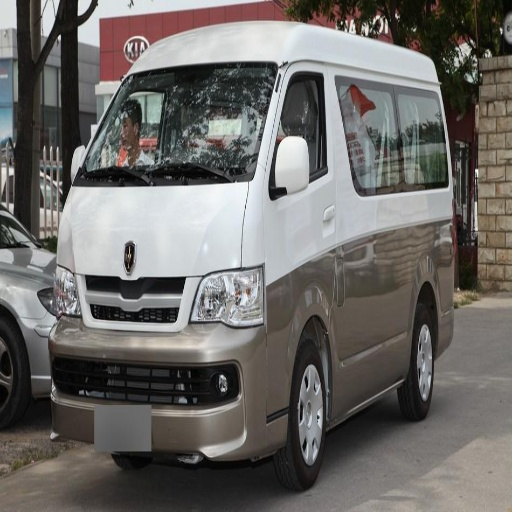front_bumper: (22, 271, 297, 462)
front_glass: (75, 64, 275, 184)
front_left_door: (269, 68, 336, 240), (334, 268, 402, 412)
front_right_light: (39, 260, 79, 316)
trunk: (357, 218, 451, 312)
